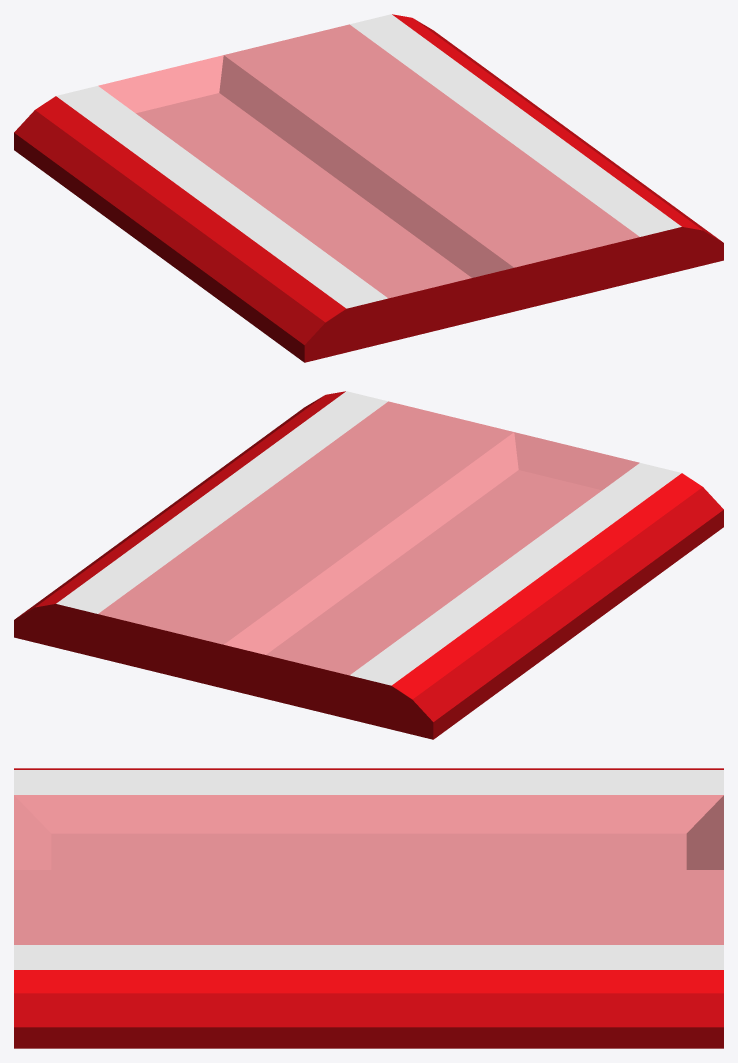
The model's file is dip.fbx.
3 renders of one model, top to bottom at view 1: azimuth 30°, elevation 25°; view 2: azimuth 150°, elevation 25°; view 3: azimuth 270°, elevation 25°, orthographic. The views are drawn at different scales.
Parts seen in each view (by area): view 1: StraightDip; view 2: StraightDip; view 3: StraightDip.
Boxes of the visible parts, box(x1,y1,x2,y2) form: StraightDip: box(14, 14, 723, 362); StraightDip: box(14, 391, 723, 739); StraightDip: box(14, 768, 723, 1048).
Bounding box in the file's own units: 10 × 1 × 12.
